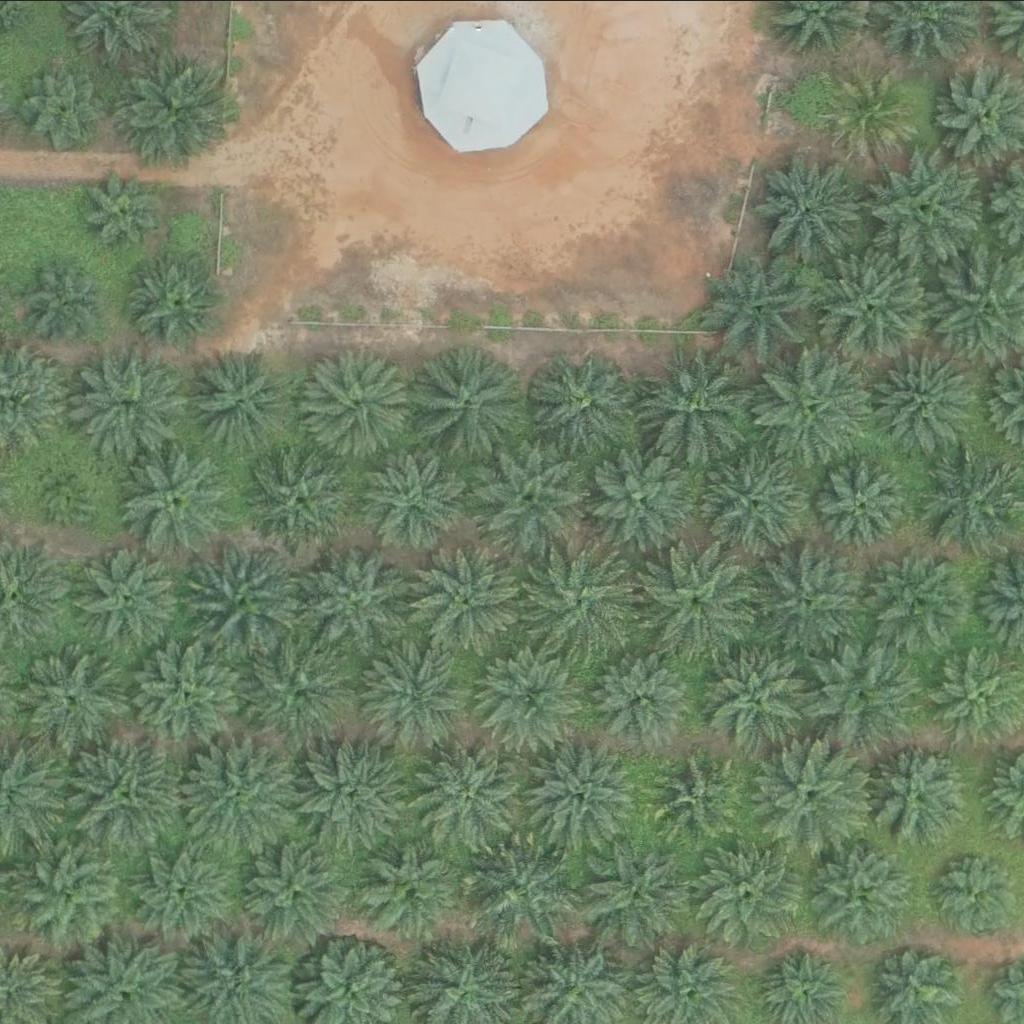Kelapa_Sawit: (10, 839, 124, 952), (68, 734, 182, 847), (186, 734, 300, 847), (242, 635, 356, 748), (357, 634, 471, 747), (753, 146, 867, 259), (869, 148, 983, 261), (704, 248, 818, 361), (299, 738, 412, 851), (417, 731, 530, 844), (476, 638, 589, 751), (120, 442, 233, 555), (242, 445, 355, 558), (77, 346, 190, 459), (181, 342, 294, 455), (304, 342, 417, 455), (416, 347, 529, 460), (115, 47, 228, 160), (643, 543, 756, 656), (748, 544, 861, 657), (697, 641, 810, 754), (132, 634, 246, 746), (297, 542, 411, 654), (414, 543, 528, 655), (475, 440, 589, 552), (810, 249, 924, 361), (643, 346, 757, 458), (236, 833, 349, 945), (466, 836, 579, 948), (14, 640, 127, 752), (190, 542, 303, 654), (523, 548, 636, 660), (757, 349, 870, 461), (702, 445, 815, 557), (804, 636, 917, 748), (753, 738, 866, 850), (692, 839, 805, 951), (587, 443, 700, 555), (520, 739, 633, 851), (579, 835, 692, 947), (359, 836, 460, 936), (79, 544, 180, 644), (874, 350, 975, 450), (919, 450, 1020, 550), (869, 542, 970, 642), (868, 743, 969, 843), (812, 840, 913, 940), (137, 841, 237, 941), (362, 449, 462, 549), (535, 350, 635, 450), (133, 256, 222, 344), (654, 752, 743, 840), (831, 68, 919, 156), (23, 61, 111, 148), (821, 461, 909, 548), (928, 850, 1016, 937), (597, 652, 685, 739), (33, 260, 109, 335), (84, 174, 159, 249), (36, 456, 99, 518)
